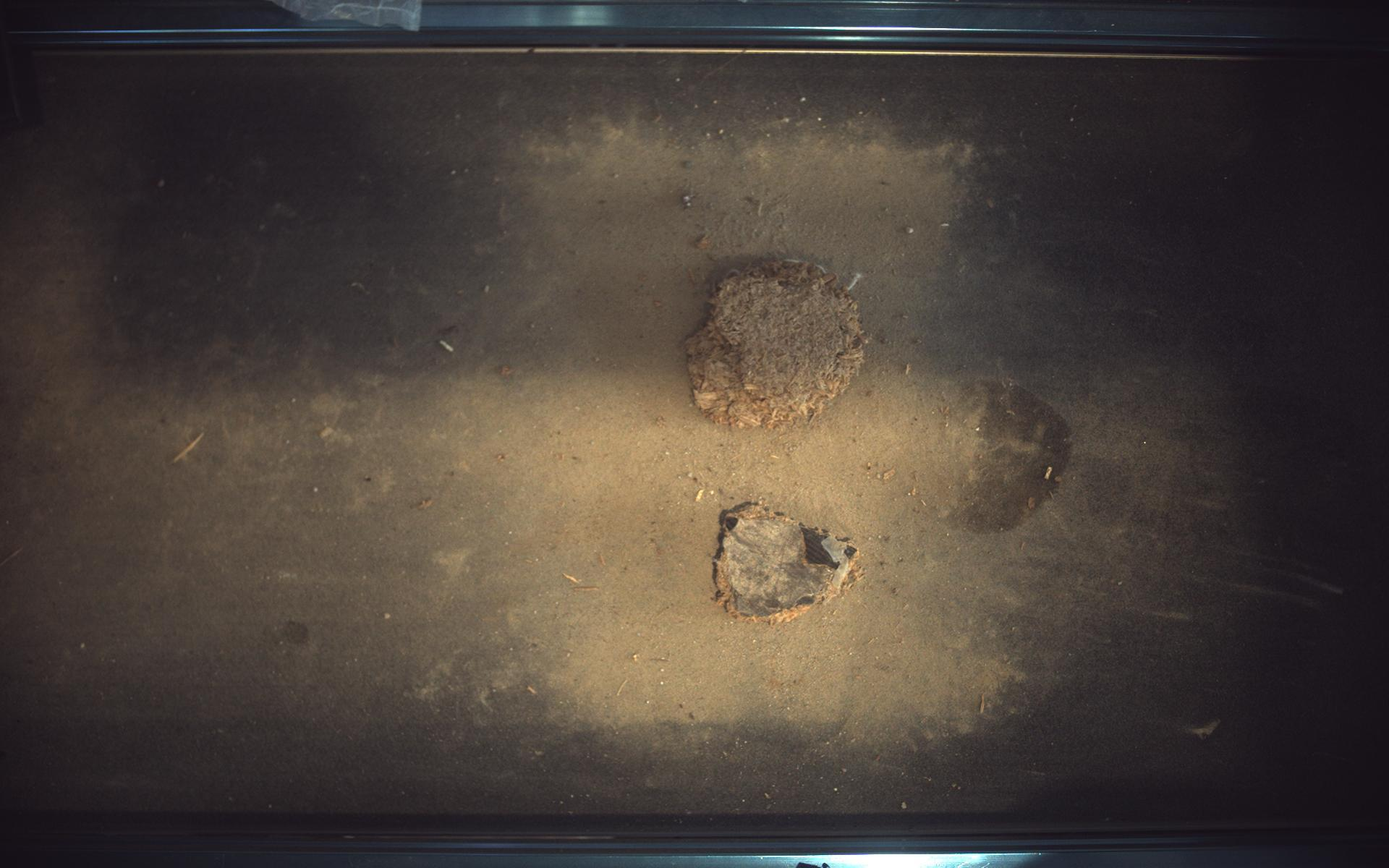wood: (687, 260, 870, 428), (715, 503, 865, 624)
